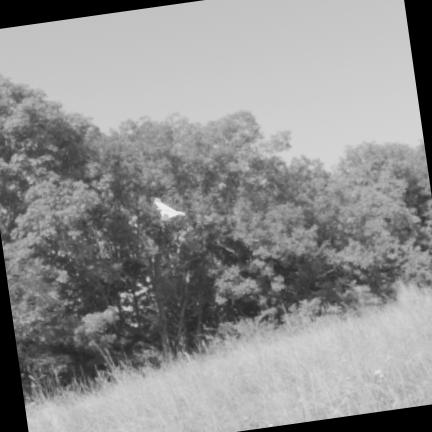Shahed: (153, 198, 185, 220)
